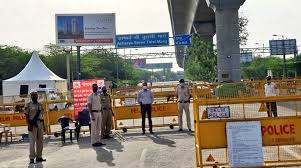mask: (28, 91, 39, 103), (91, 84, 99, 93), (142, 81, 149, 91), (101, 85, 108, 93), (177, 78, 185, 85), (266, 76, 272, 85)
